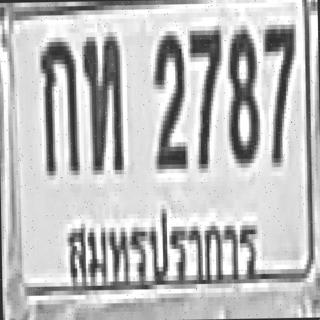A01: (38, 35, 78, 173)
A23: (82, 32, 122, 170)
N02: (150, 28, 185, 167)
N07: (262, 20, 296, 163), (187, 26, 221, 164)
N08: (225, 25, 258, 163)
P57: (58, 195, 266, 306)
